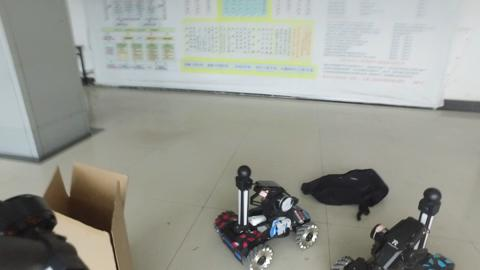bag: (298, 160, 397, 222)
chariot: (211, 161, 323, 267), (367, 189, 458, 266)
